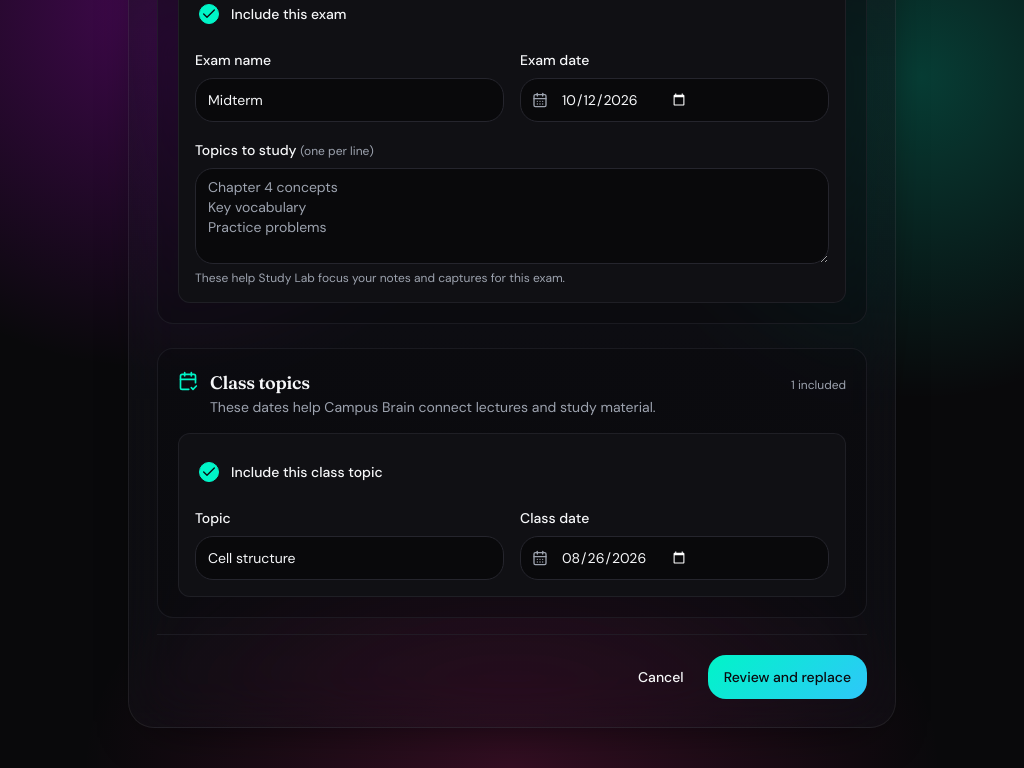
Test: ClassSyllabusPage › confirms replacement before writing and returns to the exact class after success
The image size is (1024, 768).
Earlier steps of the test are not shown.
(page scrolled)
Click the button "Review and replace". click: (787, 677)
box: x1=708 y1=655 x2=867 y2=699
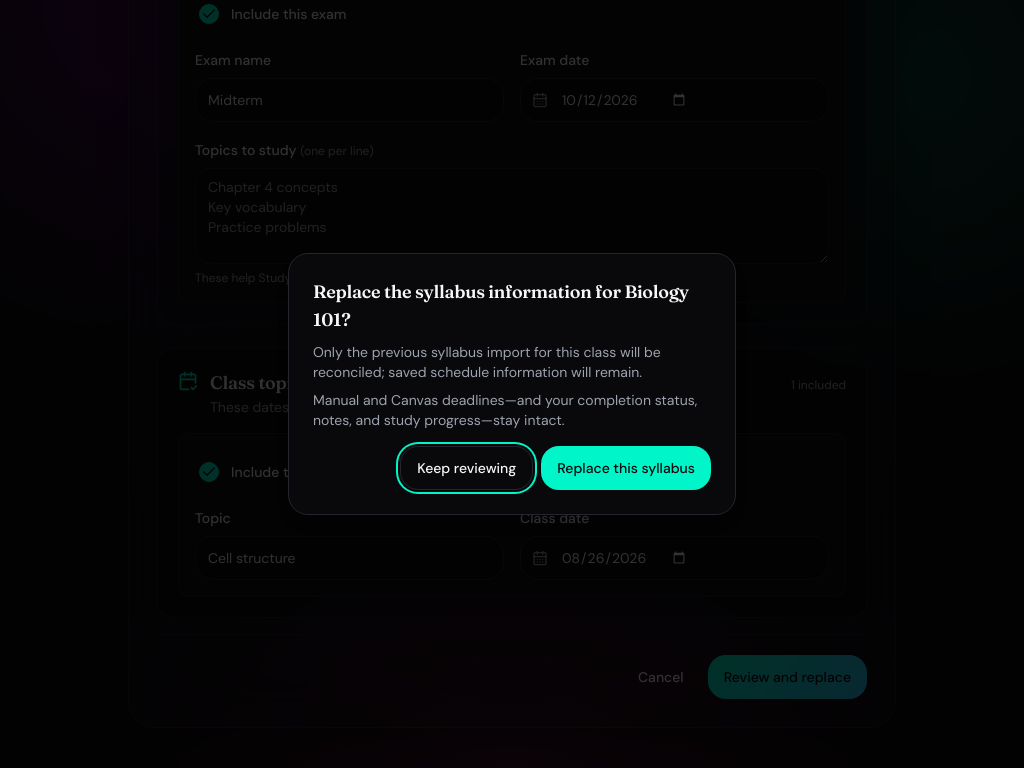
expect the text "Manual and Canvas deadlines" is shown: met, box x1=313 y1=391 x2=697 y2=429
Click the button "Replace this syllabus". click: (626, 468)
box: x1=541 y1=446 x2=711 y2=490
(page scrolled)
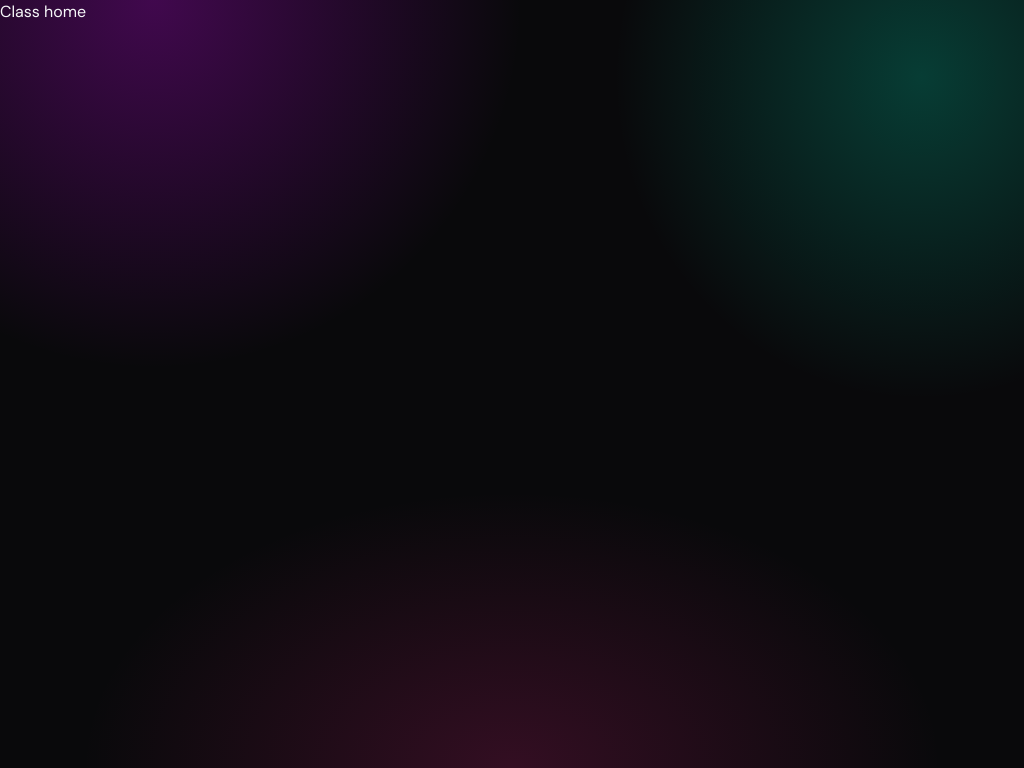
expect the text "Class home" is shown: met, box x1=0 y1=1 x2=86 y2=22
